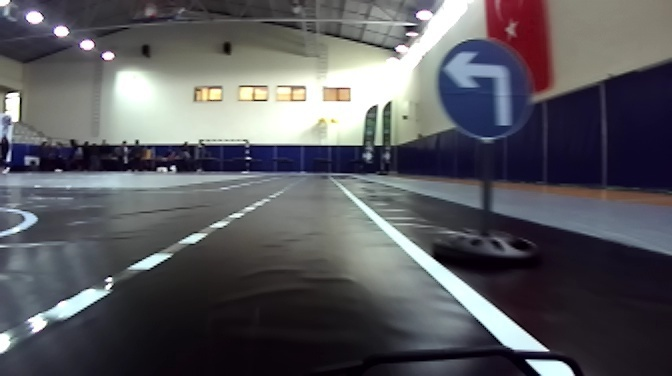sola_donus: (436, 37, 534, 139)
